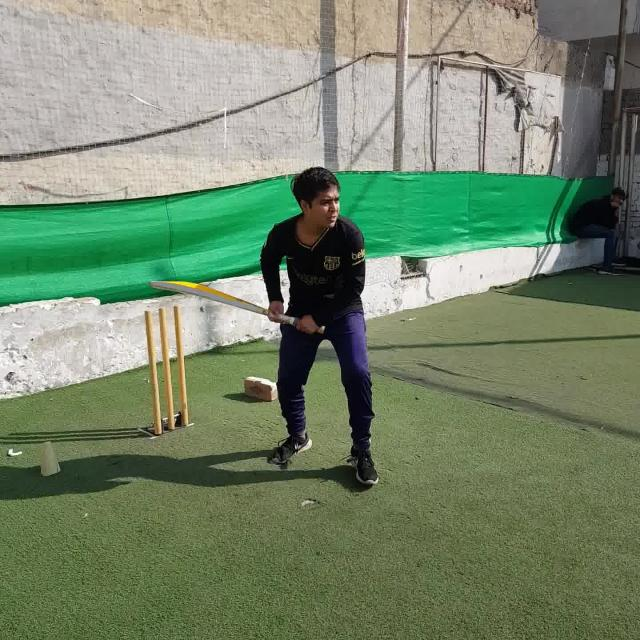bat: (148, 280, 325, 333)
